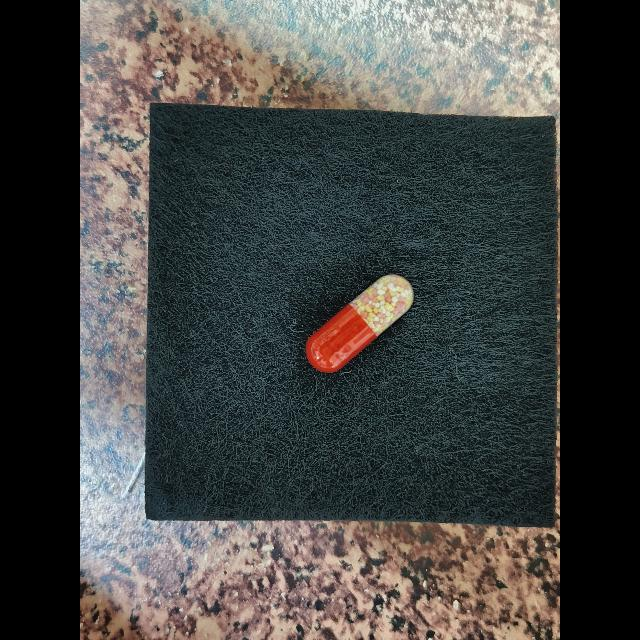Intact Capsule: (306, 274, 414, 373)
